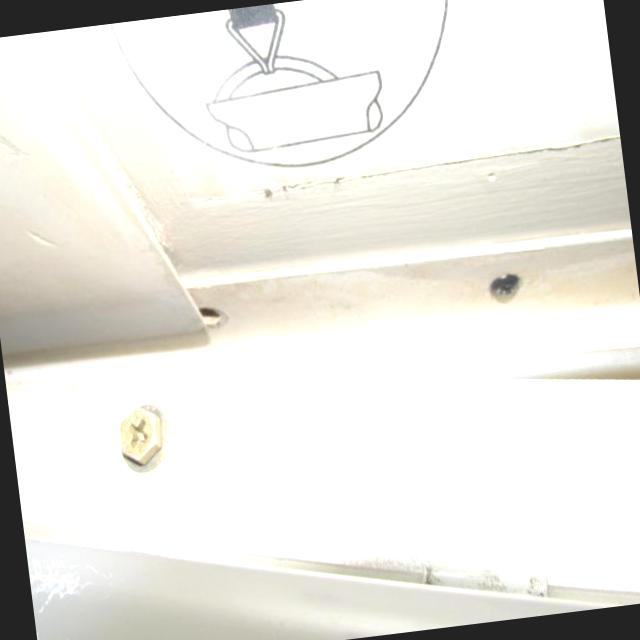Missing Fastener: (182, 282, 234, 340)
